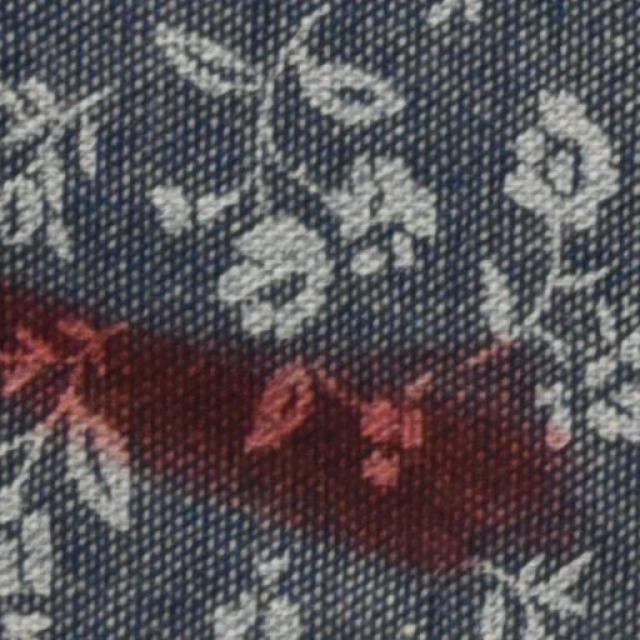Stain: (0, 276, 564, 556)
